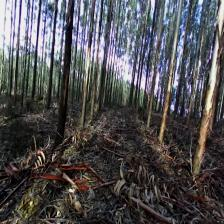trunk: (191, 48, 224, 173), (56, 8, 74, 139), (45, 6, 57, 107), (79, 48, 90, 126), (158, 80, 172, 141), (90, 42, 99, 118), (146, 68, 157, 127), (31, 37, 38, 97)
